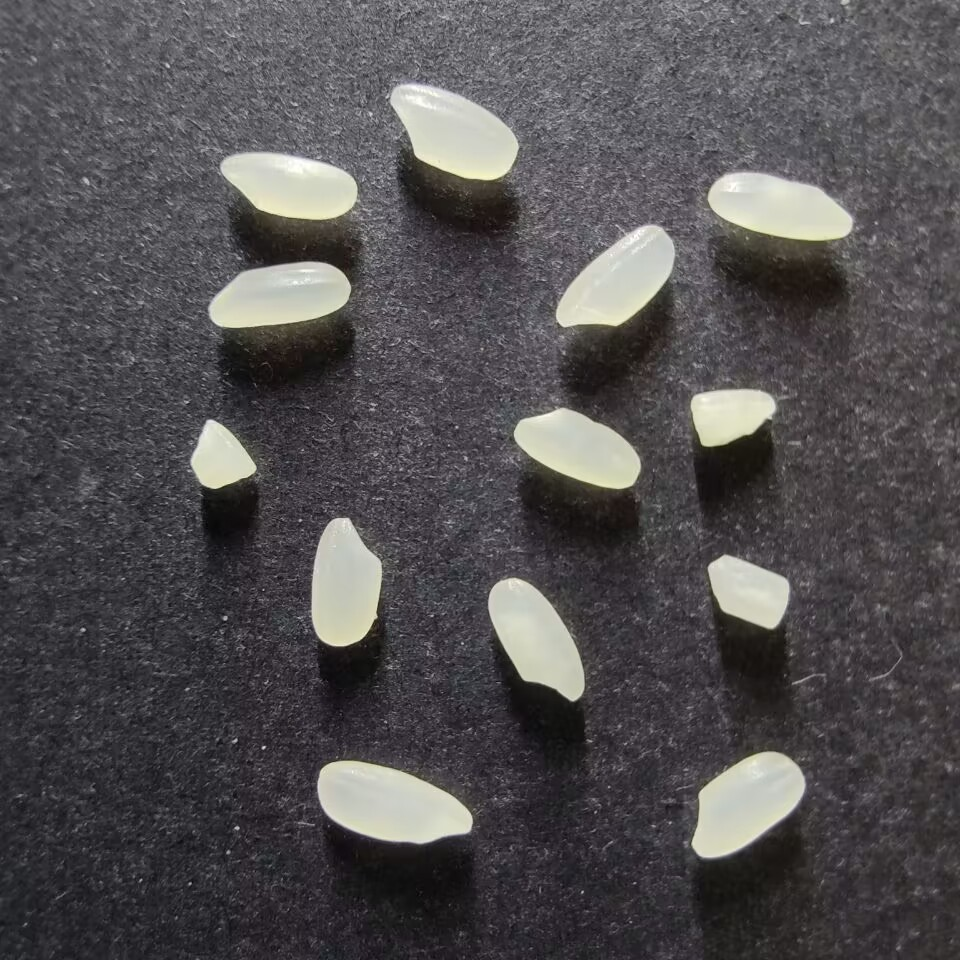broken: (706, 552, 791, 629), (690, 389, 776, 447), (188, 418, 257, 490)
rice: (316, 759, 473, 845), (554, 222, 675, 329), (689, 750, 806, 860), (389, 84, 520, 181), (487, 577, 584, 702), (512, 407, 642, 490), (706, 170, 853, 242), (207, 259, 351, 328), (309, 515, 382, 647), (219, 151, 357, 219)
